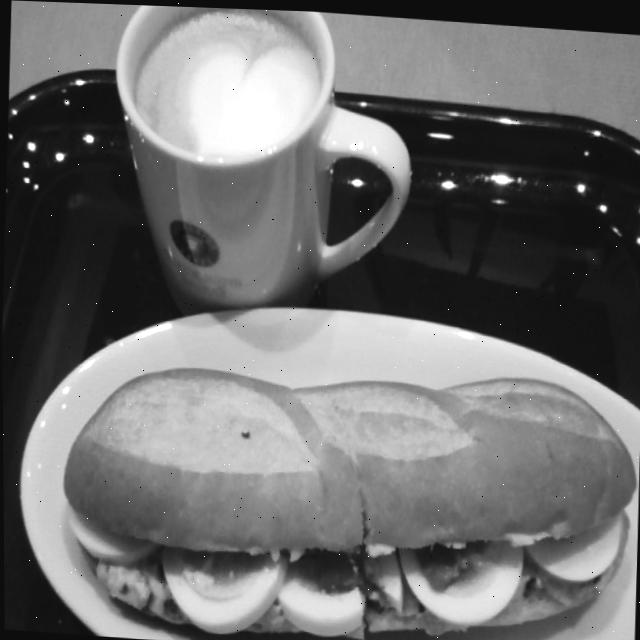三明治: (75, 345, 639, 640)
